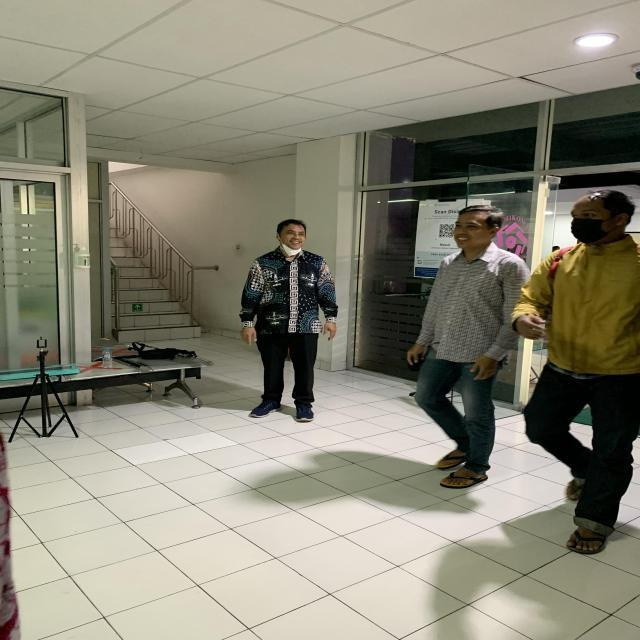hairnet: (277, 232, 306, 256)
